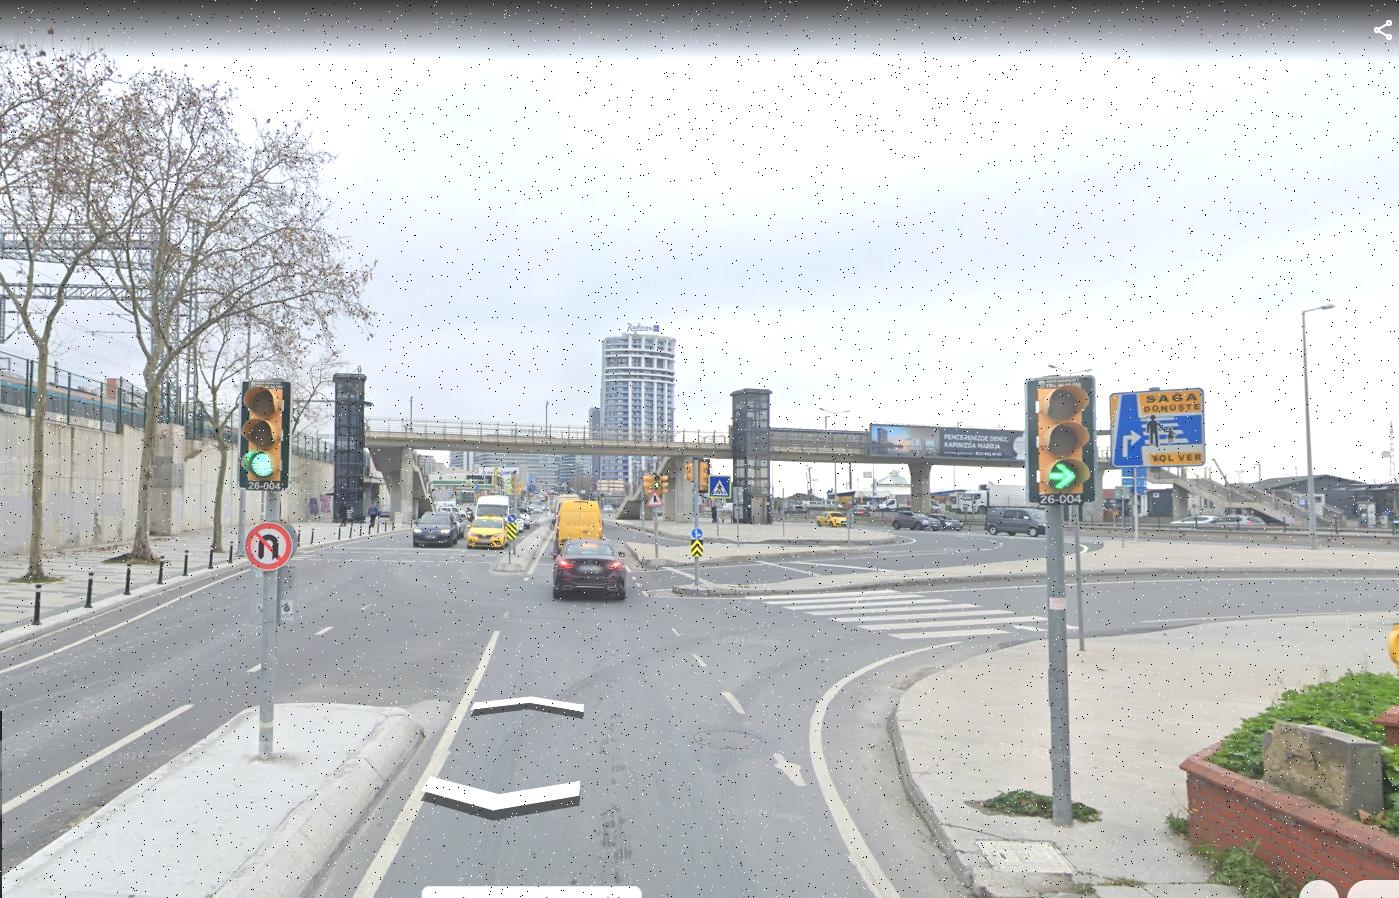greenlight: (1029, 376, 1091, 506), (240, 381, 284, 484)
